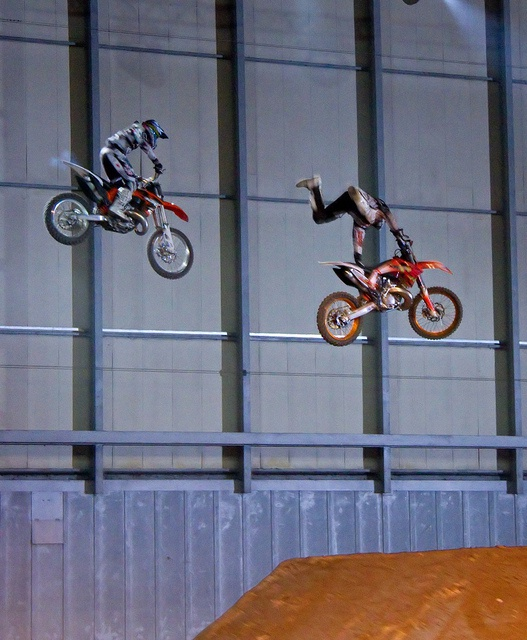non-vehicle: (44, 118, 194, 280), (316, 228, 463, 346)
